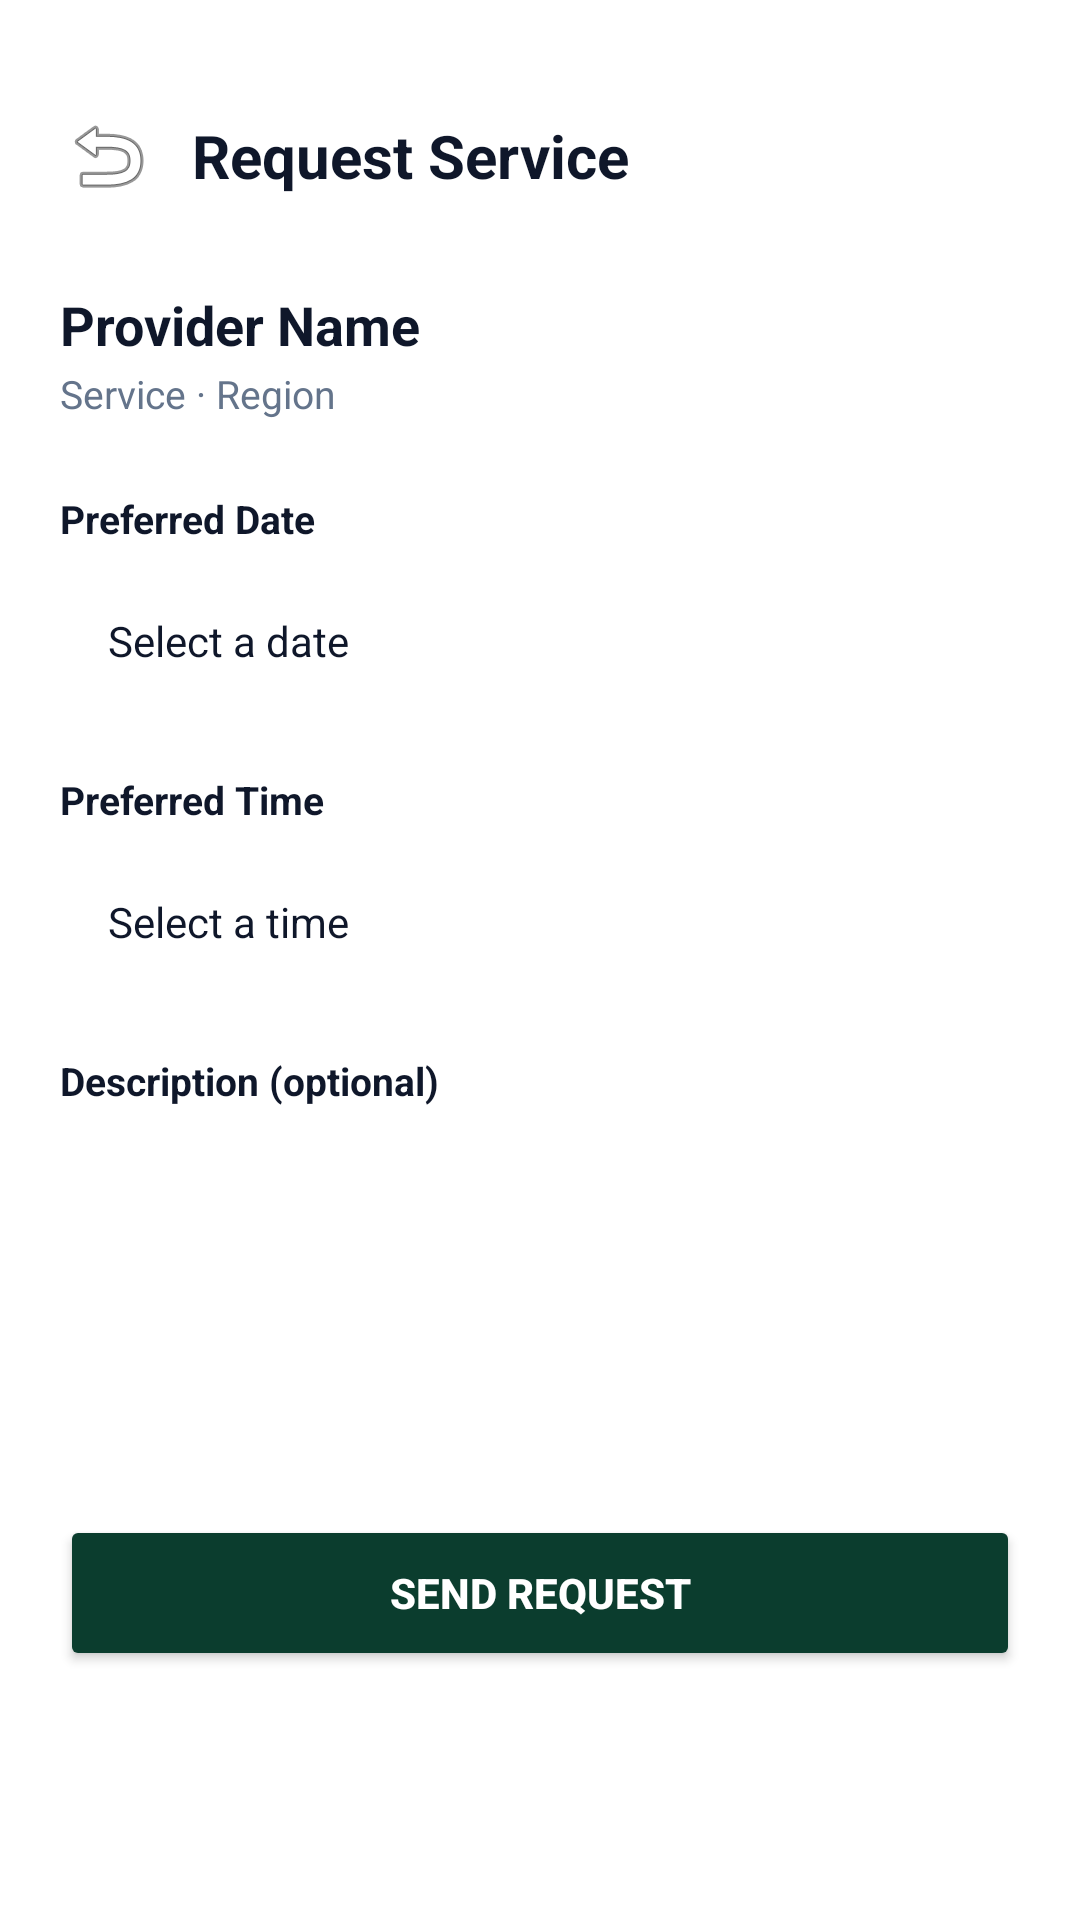

Point at icon controls on the screen. Image size 1080px x 1920px, points as point (x, y).
Back: point (109, 156)
